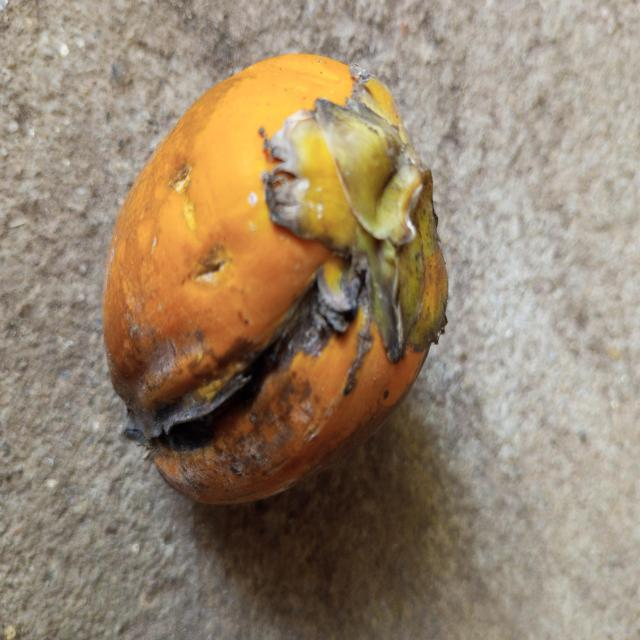damaged: (101, 53, 449, 508)
